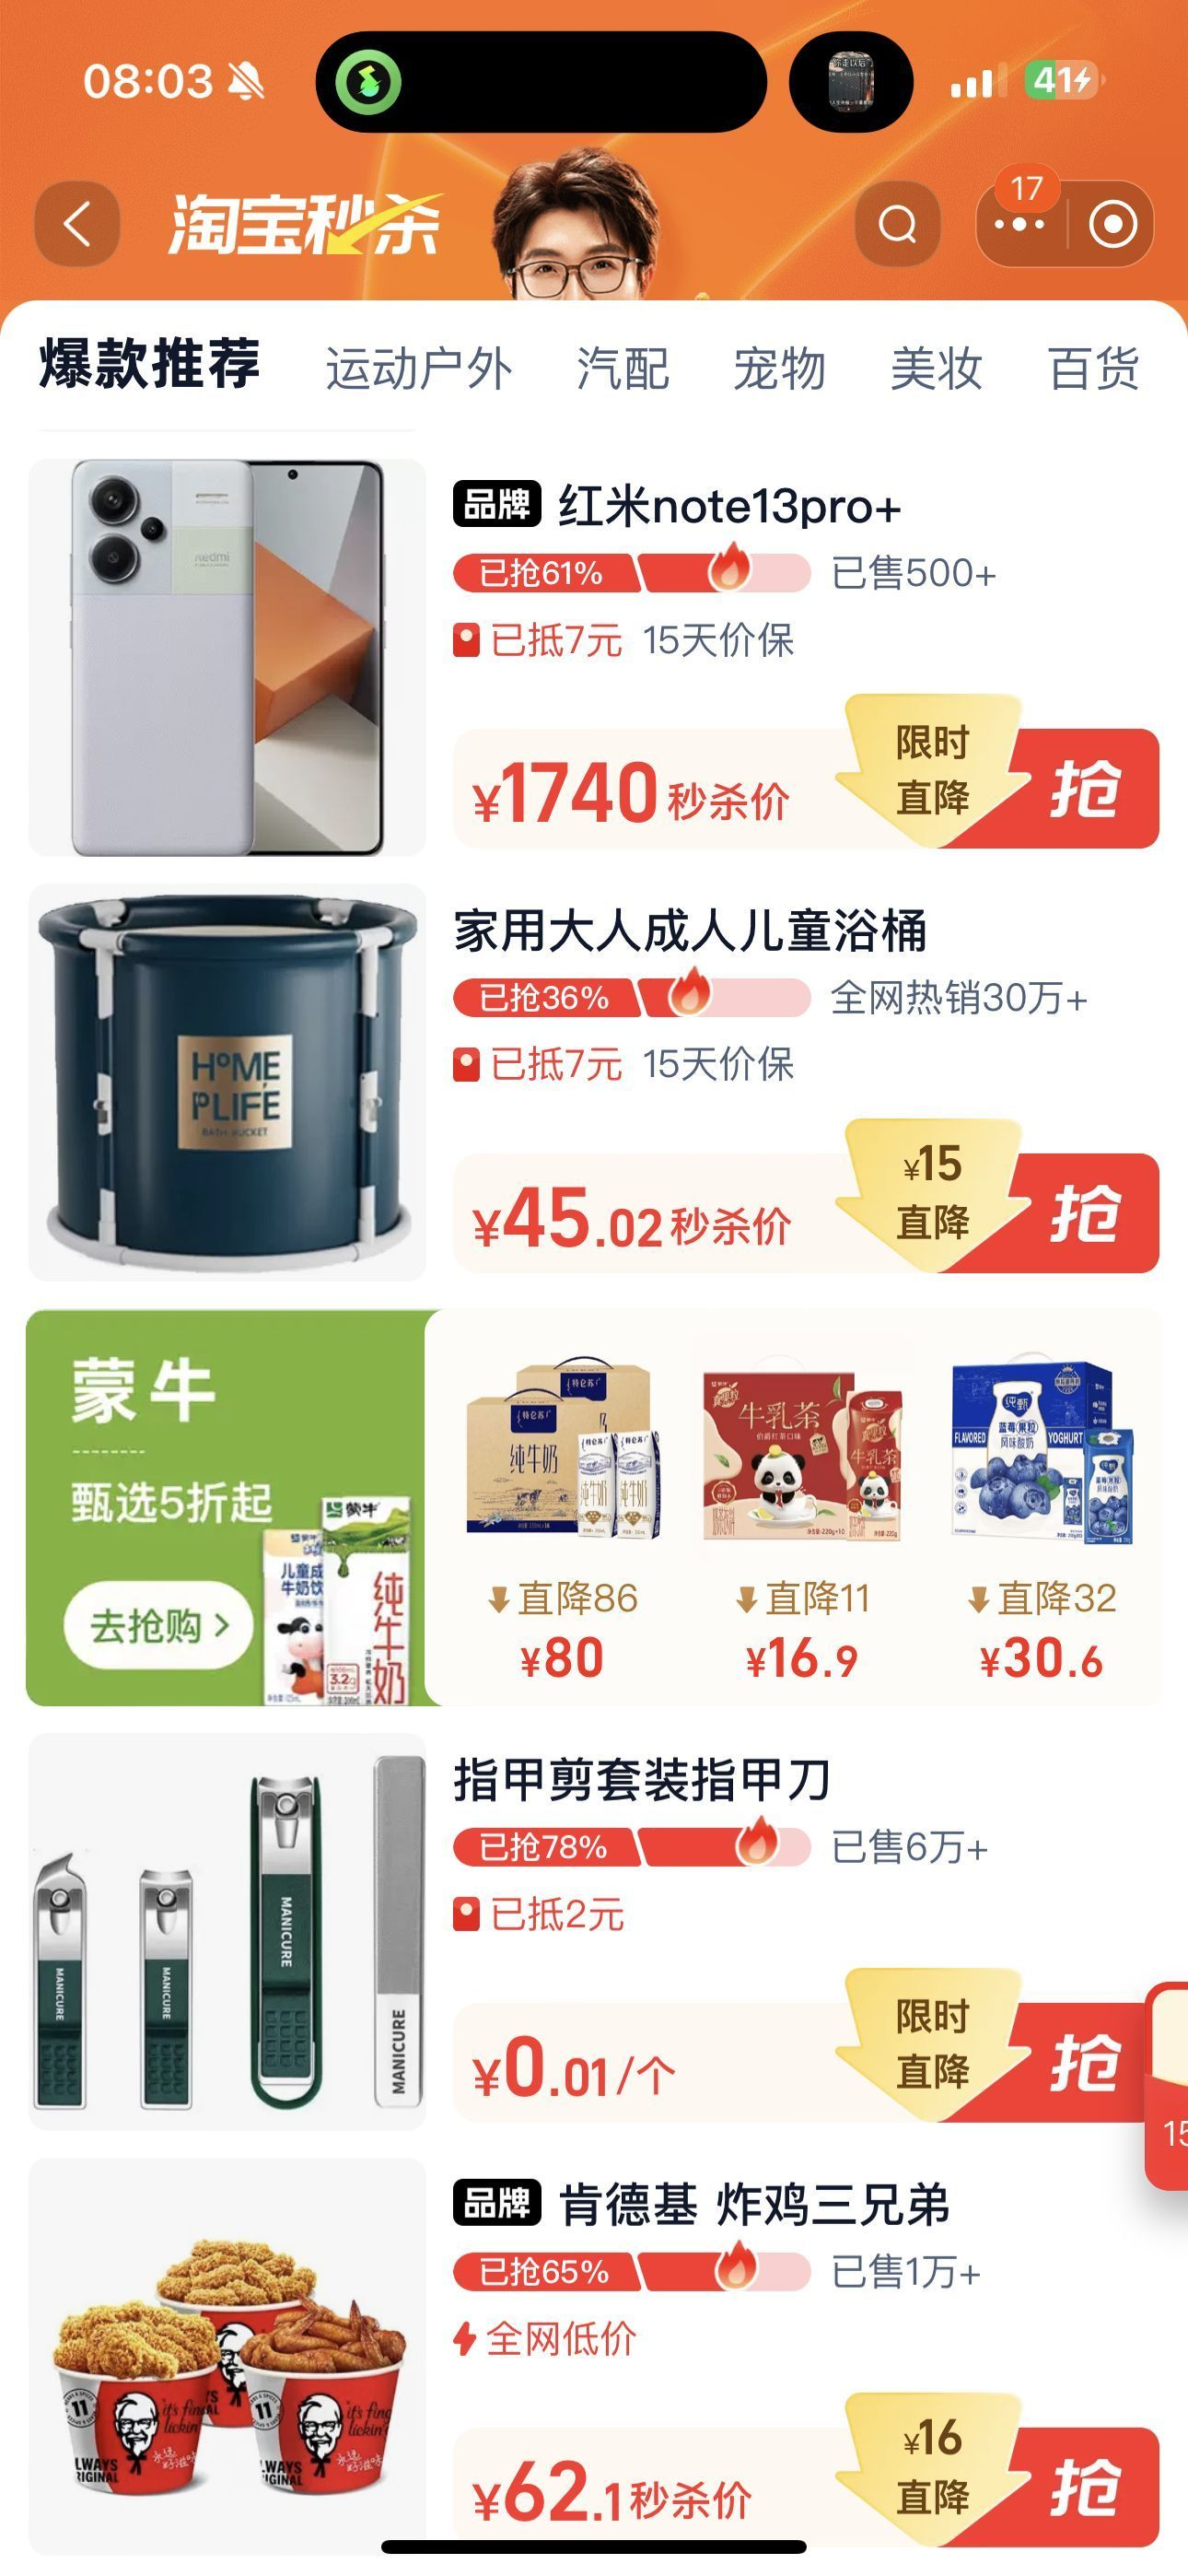banner: (36, 1308, 1176, 1720)
item: (33, 450, 1183, 877), (21, 2154, 1176, 2565), (35, 882, 1178, 1296), (20, 1732, 1188, 2127)
op_bar: (5, 153, 1186, 283)
